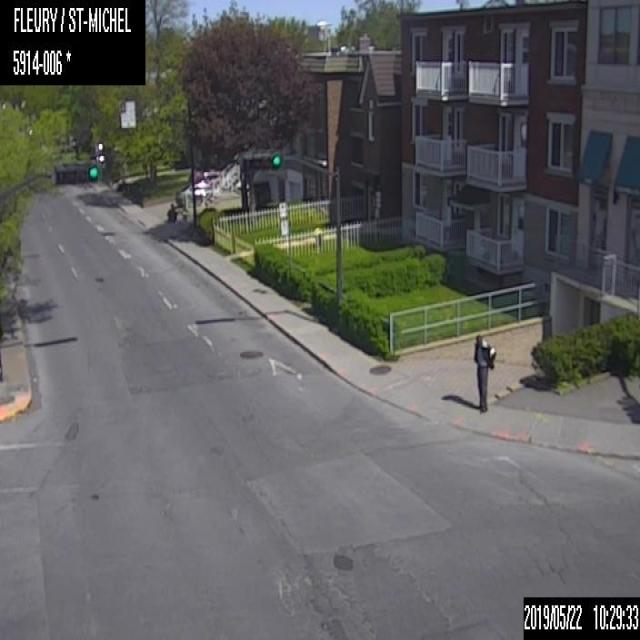pedestrian: (473, 332, 496, 413), (165, 201, 180, 243)
